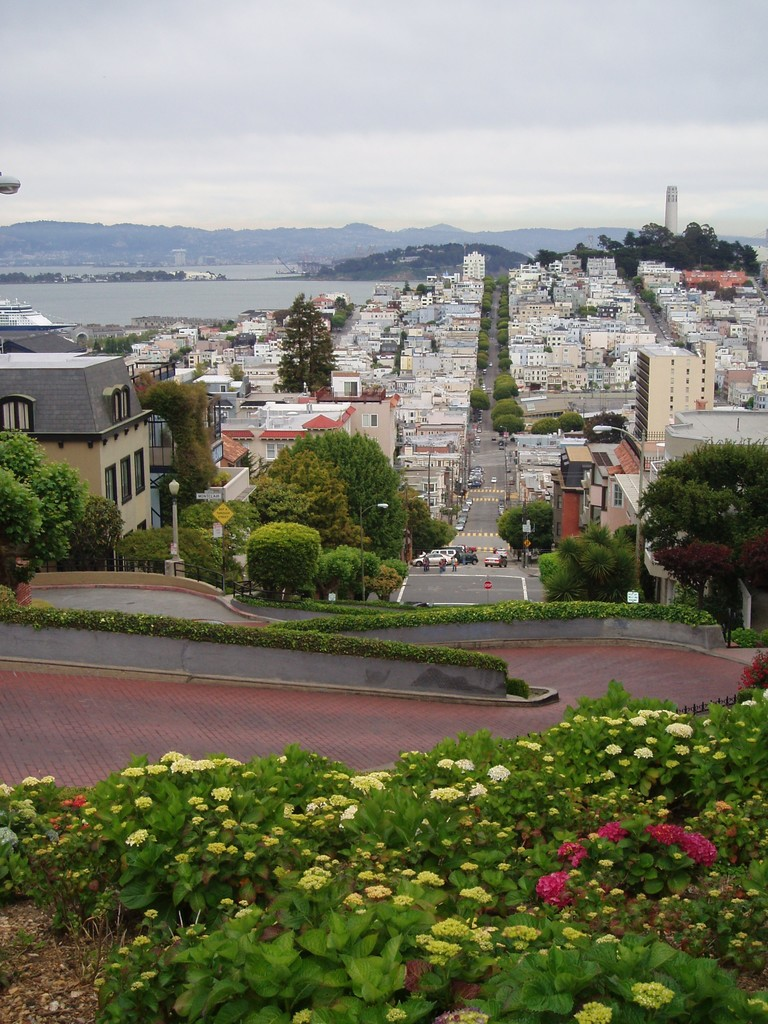Tree: (624, 446, 767, 565), (529, 224, 759, 284), (276, 291, 339, 400)
